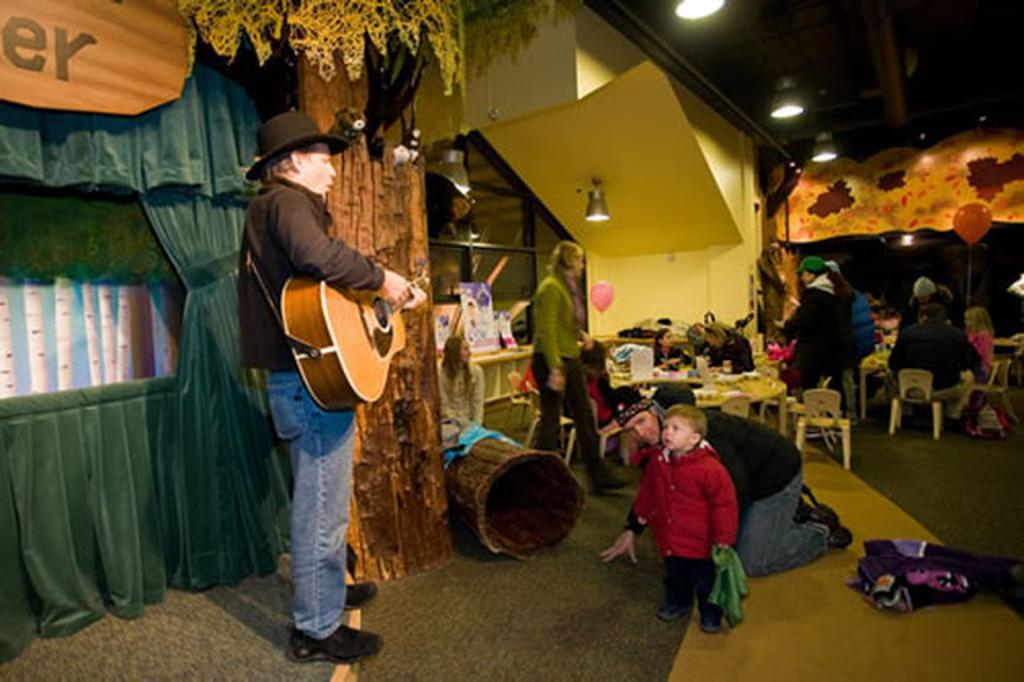face: (302, 140, 337, 194), (623, 411, 660, 445), (662, 414, 691, 448), (919, 305, 944, 327), (907, 566, 928, 584), (571, 251, 585, 275), (460, 342, 473, 364), (802, 267, 815, 285), (692, 328, 705, 343), (663, 333, 674, 348), (964, 312, 974, 328), (707, 332, 717, 345), (879, 574, 888, 584)
